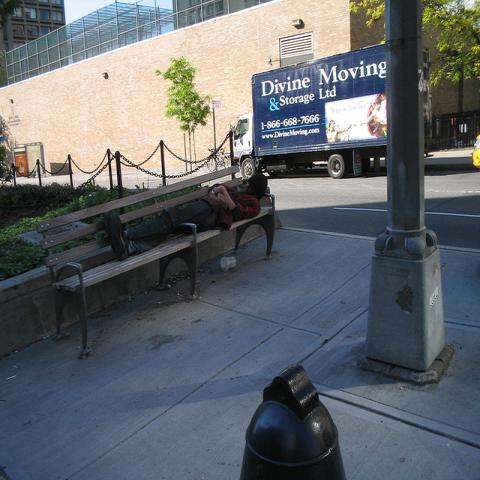truck: (231, 46, 396, 182)
